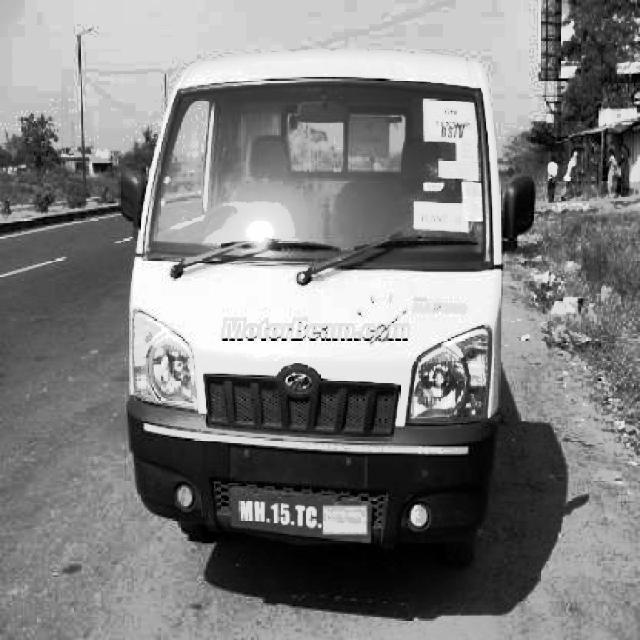LCV: (129, 58, 481, 530)
